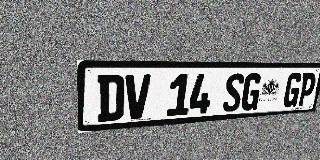1: (167, 74, 192, 116)
4: (188, 74, 213, 115)
D: (97, 75, 125, 122)
G: (240, 73, 263, 111), (282, 73, 303, 107)
P: (296, 73, 317, 106)
S: (222, 73, 245, 112)
V: (124, 74, 151, 120)
